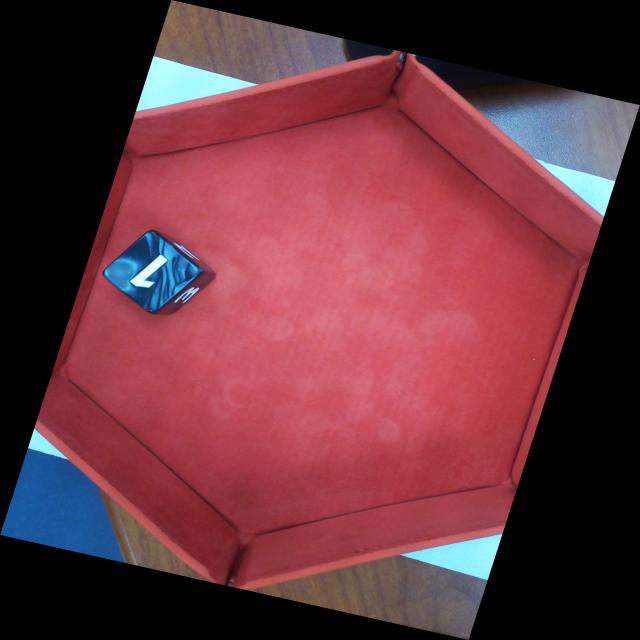dice: (100, 226, 206, 316)
